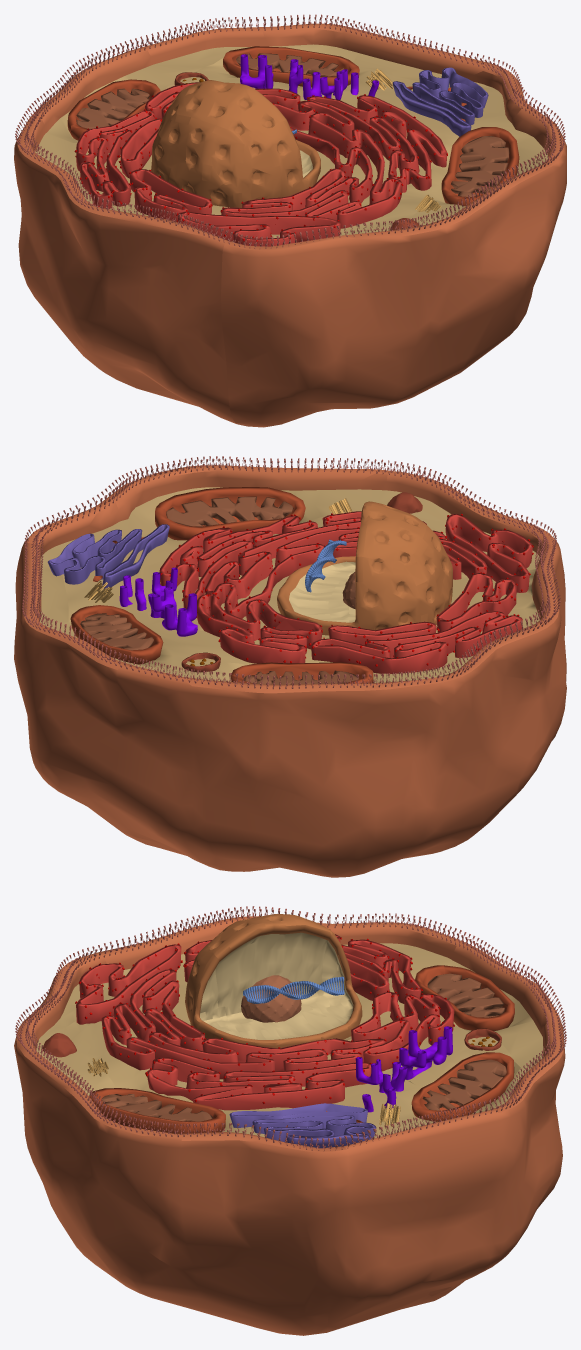
Rendered from cells.glb.
3 views of the same model, one above another, from view 1: azimuth 30°, elevation 25°; view 2: azimuth 150°, elevation 25°; view 3: azimuth 270°, elevation 25° (orthographic). The views are drawn at different scales.
Visible parts, largest first — view 1: udambu; view 2: udambu; view 3: udambu.
Boxes of the visible parts, x1,y1,x2,y2 form: udambu: (14, 14, 566, 427); udambu: (14, 456, 566, 877); udambu: (14, 906, 566, 1335).
Bounding box in the file's own units: 0.5 × 0.3178 × 0.4863.
